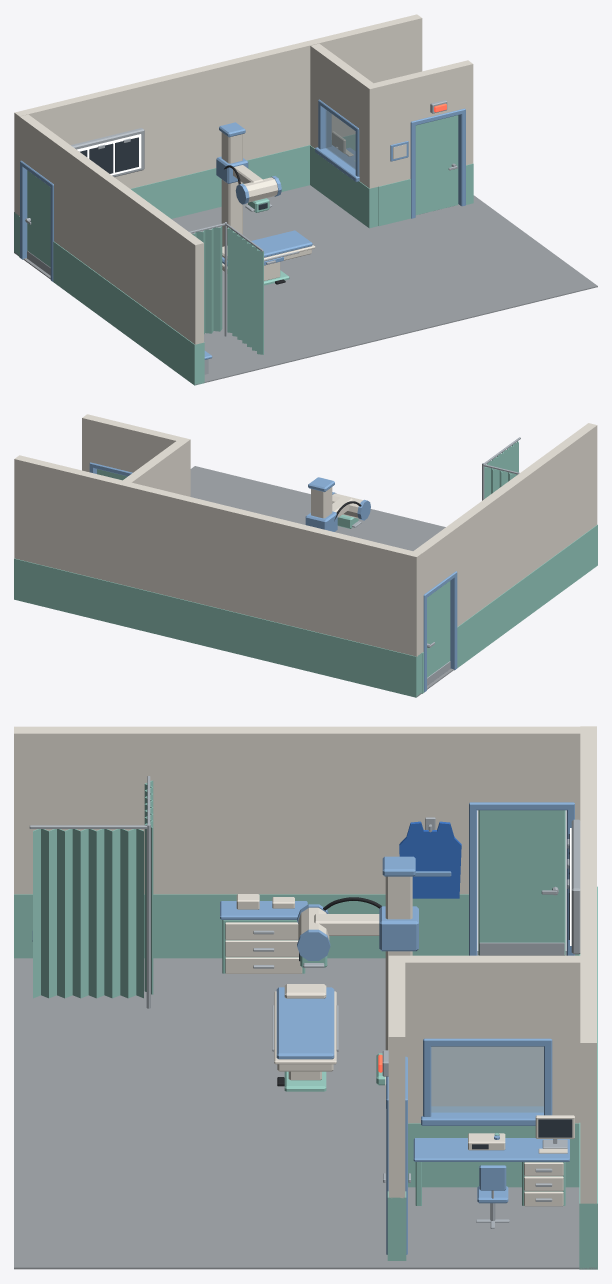
File: x-ray-room-set.glb
The picture shows the model from 3 angles, top to bottom: view 1: azimuth 30°, elevation 25°; view 2: azimuth 150°, elevation 25°; view 3: azimuth 270°, elevation 25°; orthographic projection. The views are drawn at different scales.
Parts seen in each view (by area): view 1: XRay_Room_Body, Control_Booth_Body, BoothDoor, Curtain_A, Lightbox, EntryDoor, Curtain_B, Arm, XRay_Machine_Body, XRay_Table_Body; view 2: XRay_Room_Body, Control_Booth_Body, EntryDoor, Arm, XRay_Machine_Body, Curtain_A, Curtain_B; view 3: XRay_Room_Body, Control_Booth_Body, Curtain_A, EntryDoor, XRay_Table_Body, Arm, XRay_Machine_Body, Supply_Cabinet_Body, Lightbox, Curtain_B, Cabinet_Drawer_3, Cabinet_Drawer_1 (+1 smaller).
Boxes of the visible parts, x1,y1,x2,y2 form: XRay_Room_Body: [14, 14, 597, 385]; Control_Booth_Body: [310, 43, 473, 228]; BoothDoor: [415, 115, 458, 215]; Curtain_A: [227, 227, 263, 354]; Lightbox: [71, 128, 144, 177]; EntryDoor: [25, 170, 50, 275]; Curtain_B: [192, 226, 222, 334]; Arm: [216, 156, 281, 212]; XRay_Machine_Body: [219, 122, 245, 246]; XRay_Table_Body: [222, 230, 315, 285]; XRay_Room_Body: [14, 423, 597, 697]; Control_Booth_Body: [82, 414, 190, 496]; EntryDoor: [427, 581, 450, 685]; Arm: [305, 492, 370, 531]; XRay_Machine_Body: [308, 477, 334, 518]; Curtain_A: [484, 441, 518, 473]; Curtain_B: [484, 467, 517, 498]; XRay_Room_Body: [14, 726, 597, 1269]; Control_Booth_Body: [382, 955, 580, 1260]; Curtain_A: [33, 829, 143, 998]; EntryDoor: [478, 810, 565, 955]; XRay_Table_Body: [272, 984, 338, 1091]; Arm: [297, 904, 418, 967]; XRay_Machine_Body: [376, 856, 415, 1085]; Supply_Cabinet_Body: [220, 894, 307, 973]; Lightbox: [567, 819, 580, 954]; Curtain_B: [144, 780, 153, 994]; Cabinet_Drawer_3: [225, 922, 298, 939]; Cabinet_Drawer_1: [225, 957, 302, 973].
Size of the model in its own units: 36.12 by 12 by 28.05.
